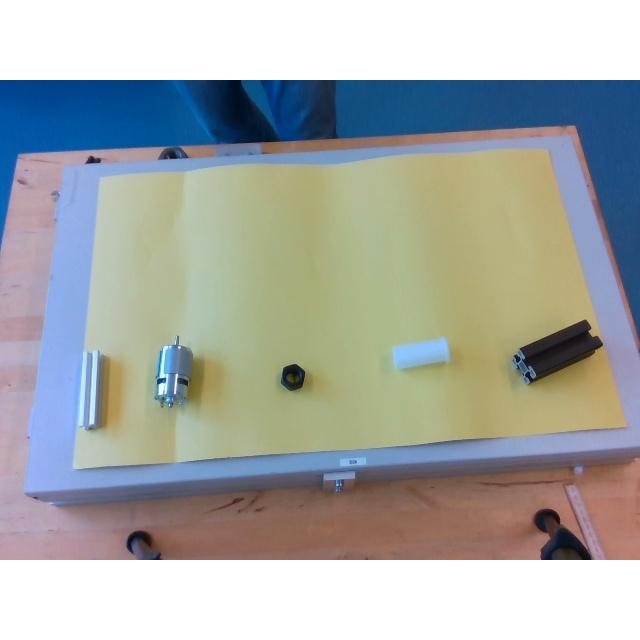F20_20_G: (77, 349, 103, 431)
M20: (280, 363, 304, 389)
Motor2: (154, 335, 192, 405)
S40_40_B: (513, 319, 603, 381)
Spacer: (392, 337, 448, 368)
